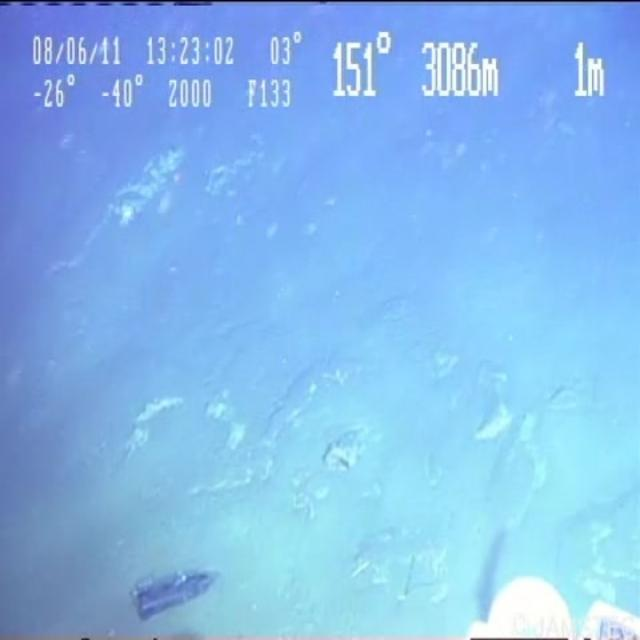Glass: (117, 565, 237, 640)
